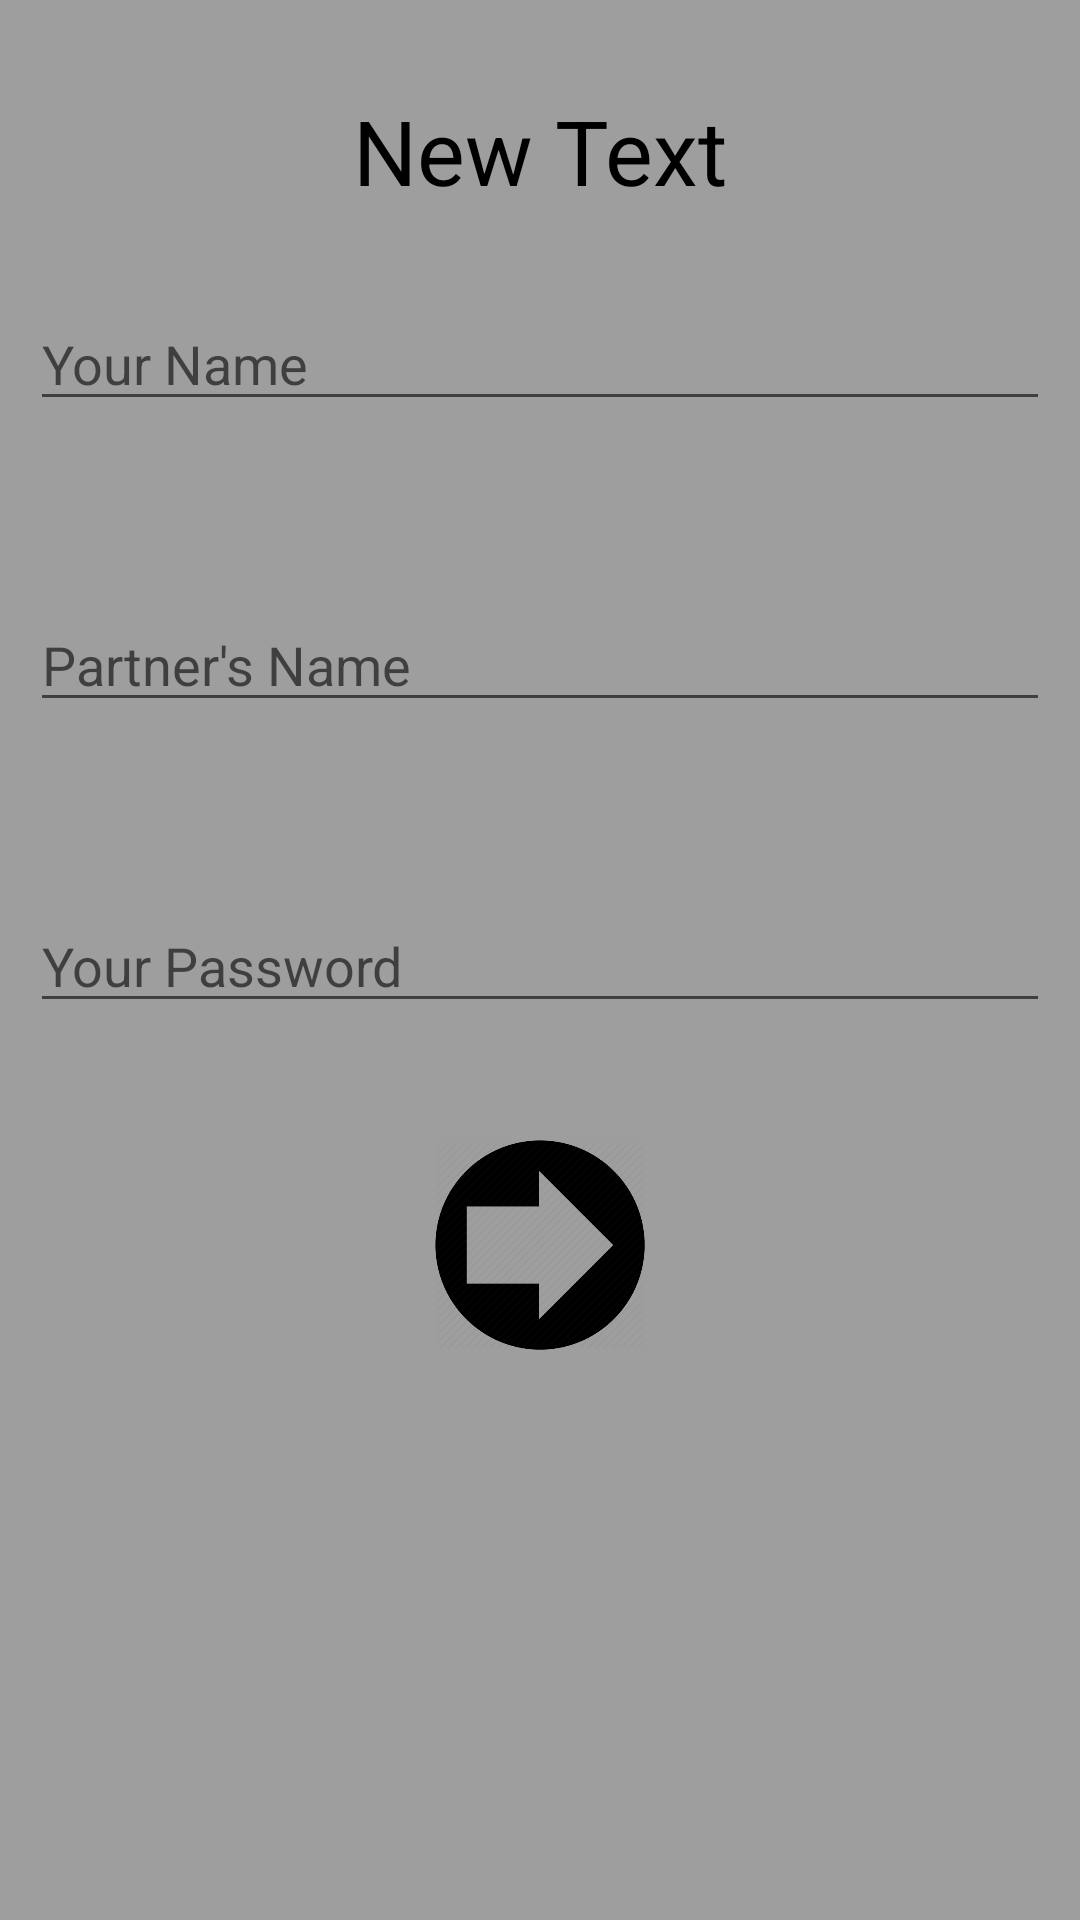

Named icons in this screenshot (1080px x 1920px) and their centers, point (x, y):
continueimg: point (540, 1245)
